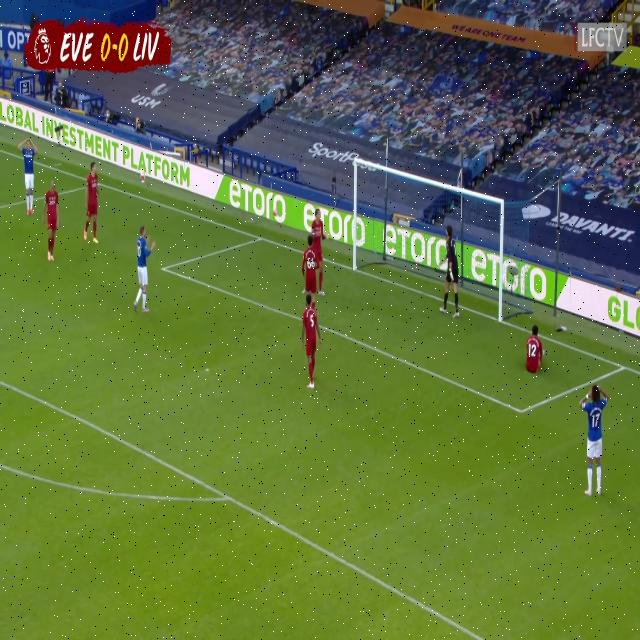TEAM 1: (301, 294, 326, 389), (82, 162, 100, 245), (44, 181, 60, 262), (526, 319, 545, 380), (313, 207, 327, 286), (302, 237, 318, 304)
TEAM 2: (581, 385, 606, 498), (441, 218, 462, 317), (135, 225, 153, 314), (19, 132, 36, 226)
